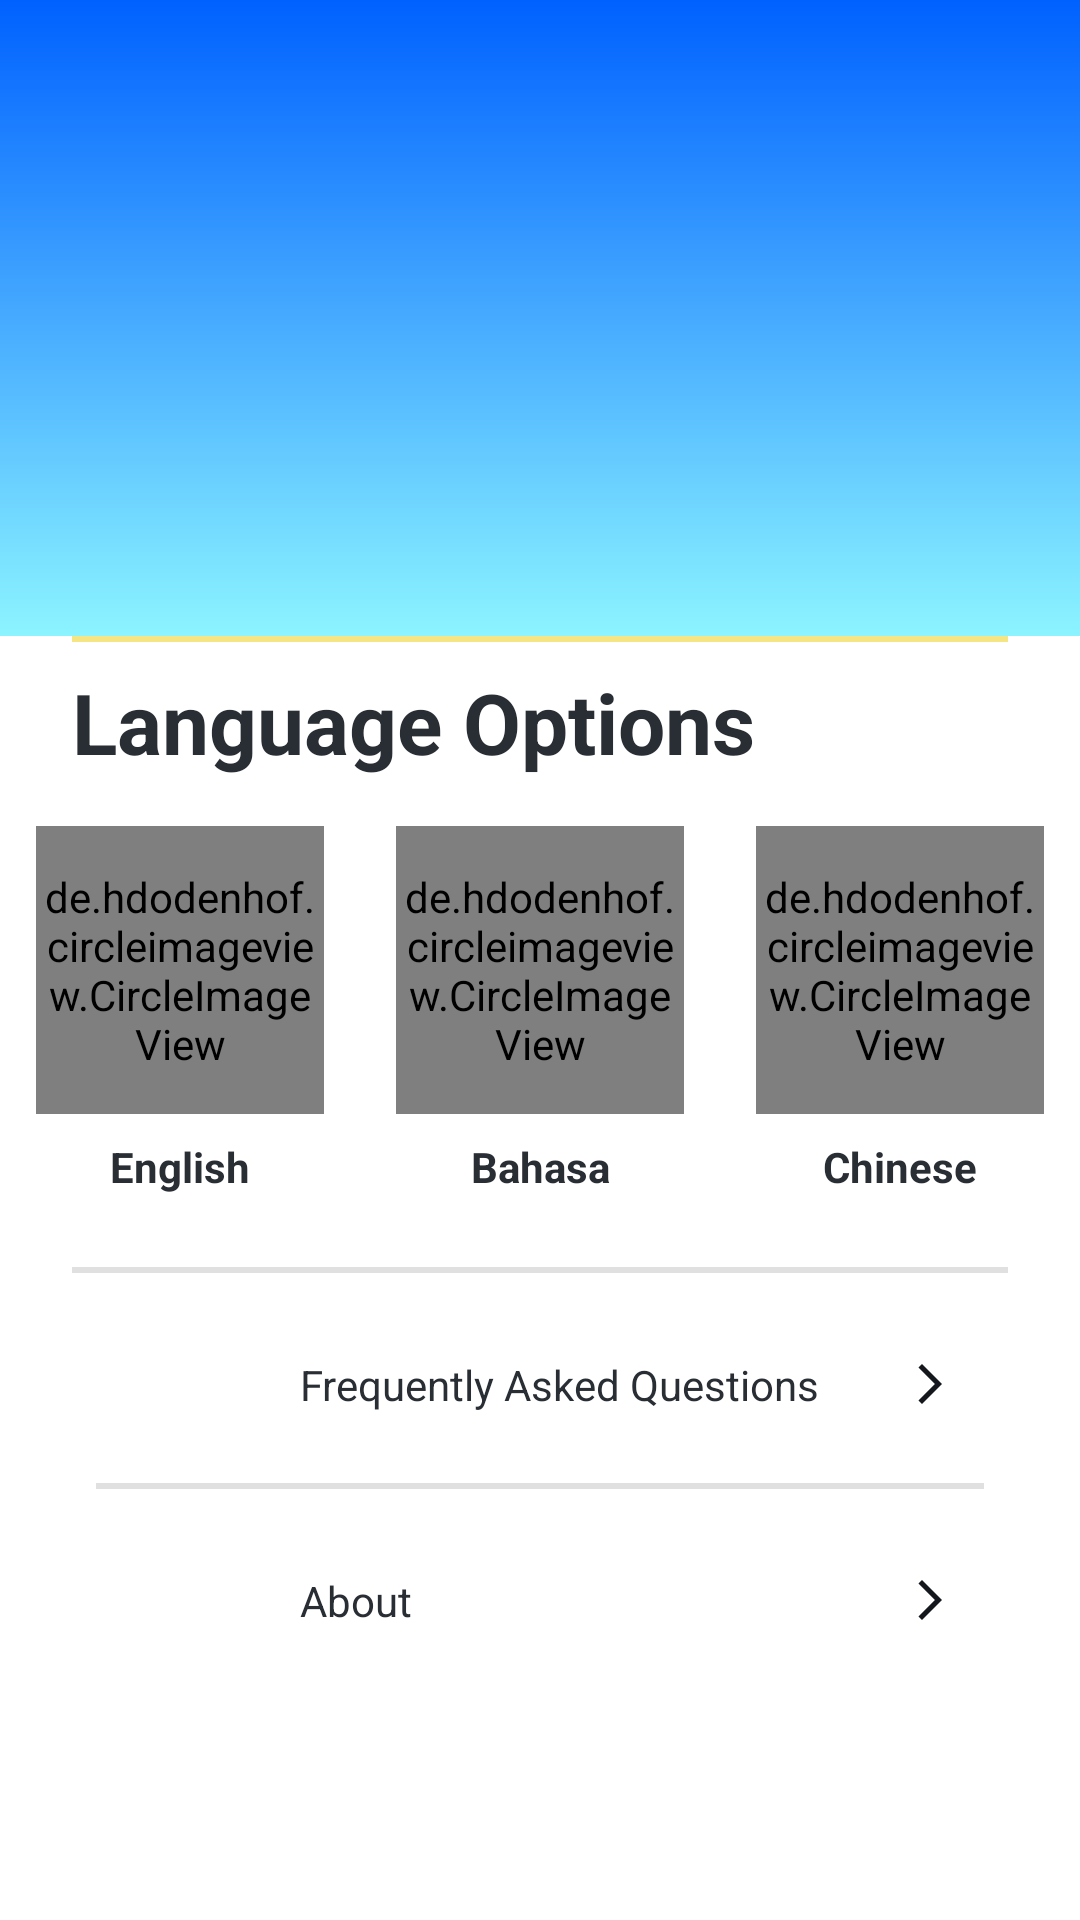

Point at icon controls on the screen. Image size 1080 x 1920, points as [x,y].
arrow forward: [930,1384], [930,1600]
